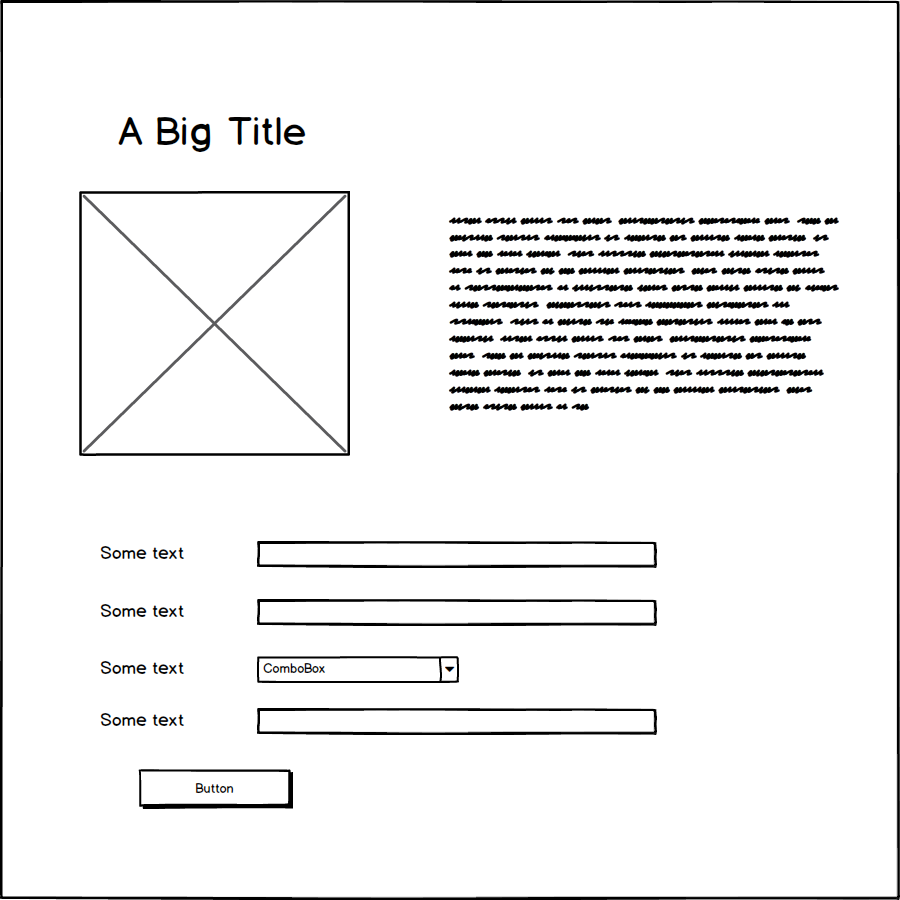button: (131, 763, 301, 818)
h1: (108, 106, 315, 162)
image: (72, 184, 359, 463)
input: (250, 534, 663, 577), (255, 701, 664, 740), (248, 595, 661, 630)
label: (94, 540, 208, 575), (93, 599, 197, 628), (92, 704, 193, 733), (96, 655, 194, 681)
p: (441, 207, 857, 428)
select_box: (255, 649, 464, 689)
